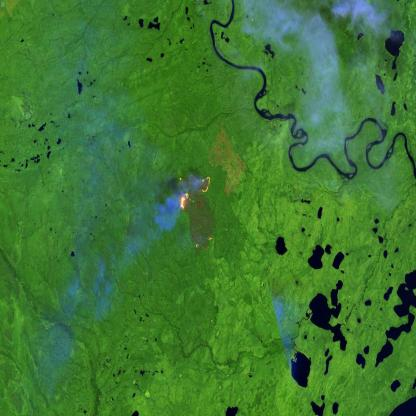fire: (176, 169, 218, 250)
